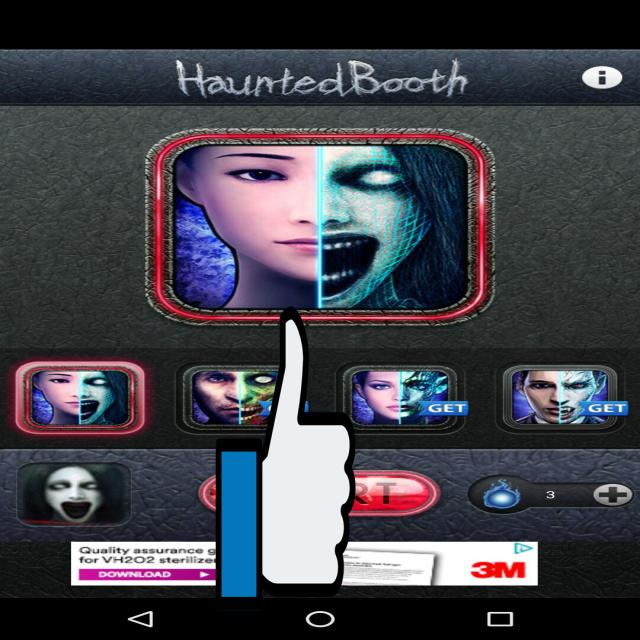privacy zuckering: (216, 299, 356, 616)
